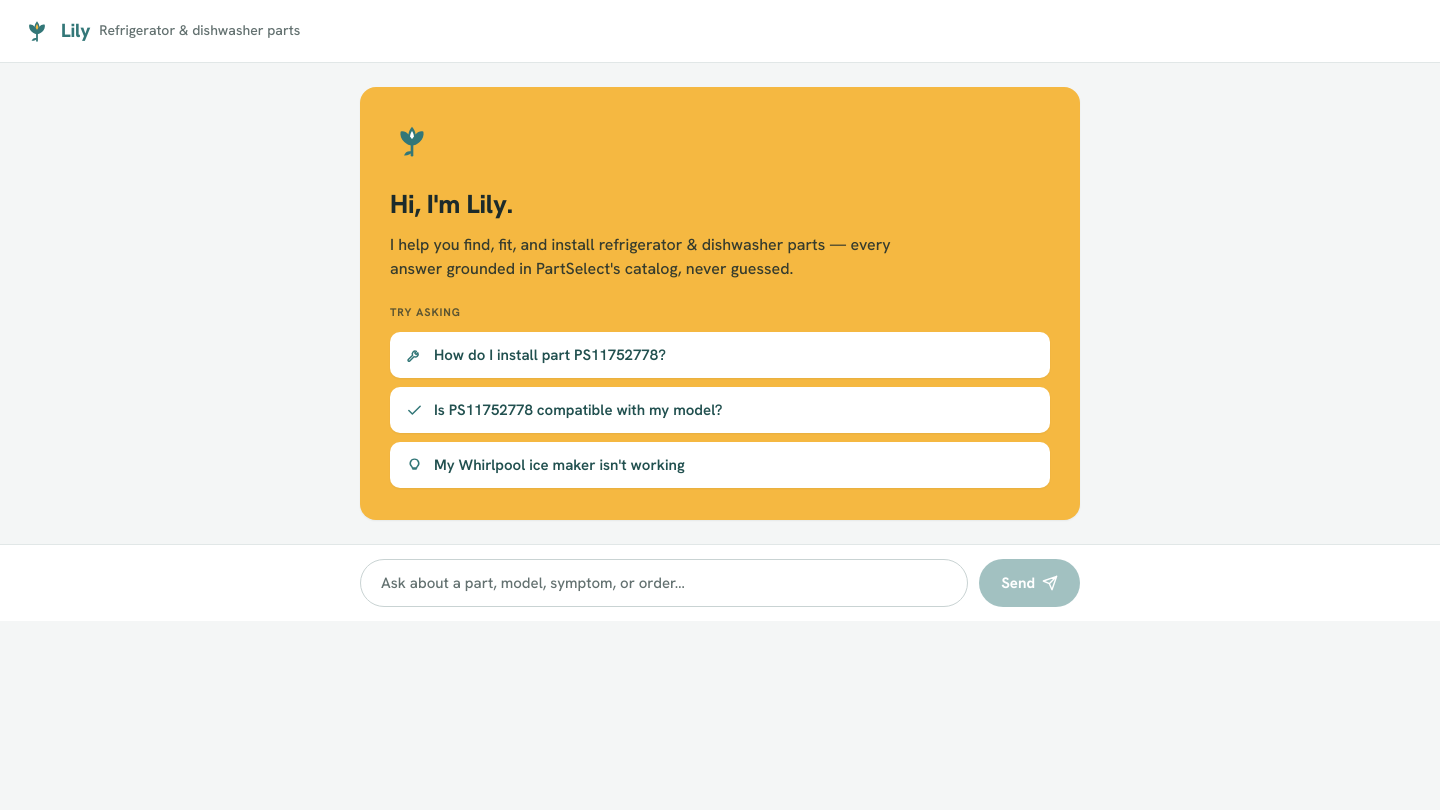
Test: Chat (mocked SSE) › renders the user turn, assistant text, product card, citation, model badge, and quick reply
In the field named "Message Lily": (664, 583) [360, 559, 968, 607], type "Is PS11752778 compatible with my WDT780SAEM1?"
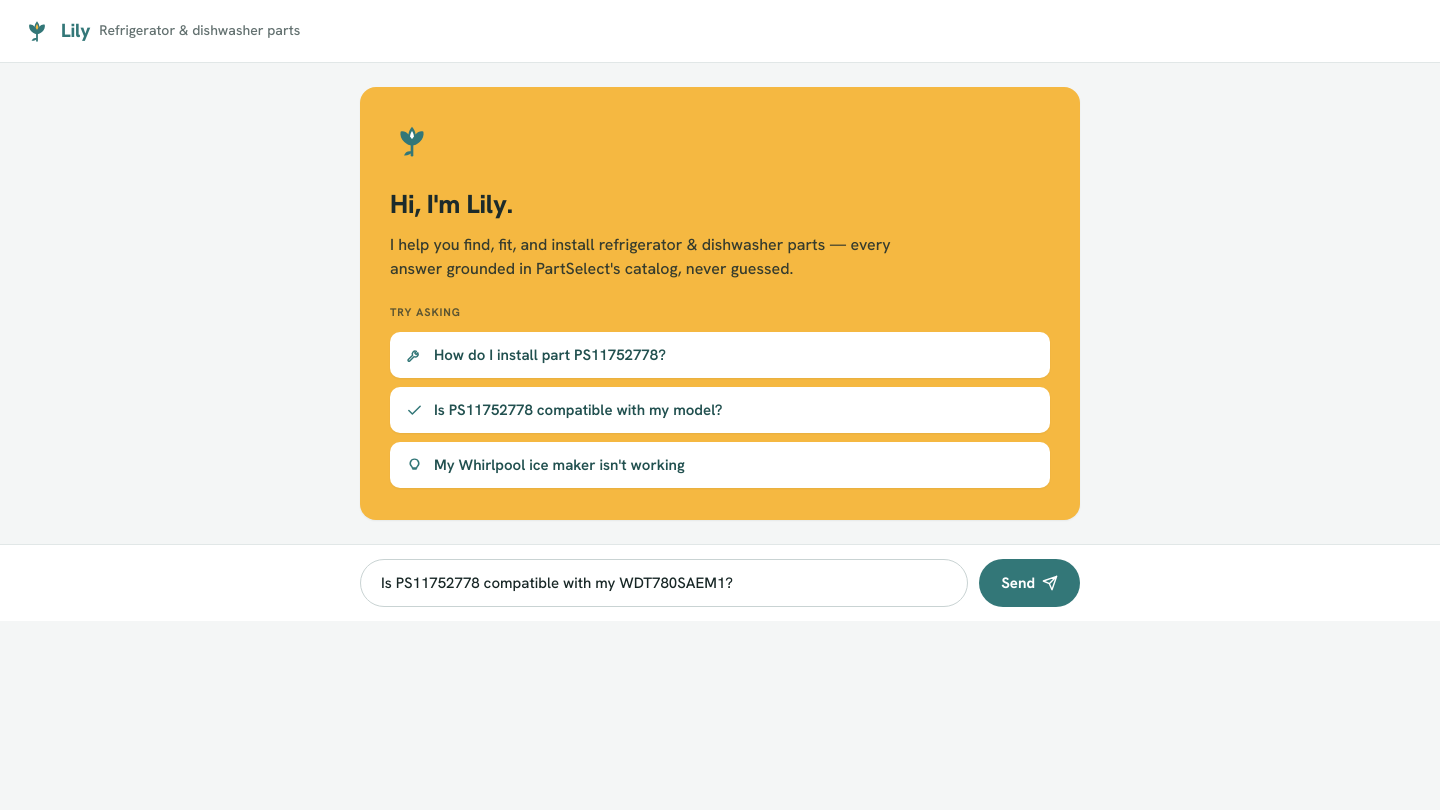
Click the button "Send": (1030, 583) [979, 559, 1080, 607]
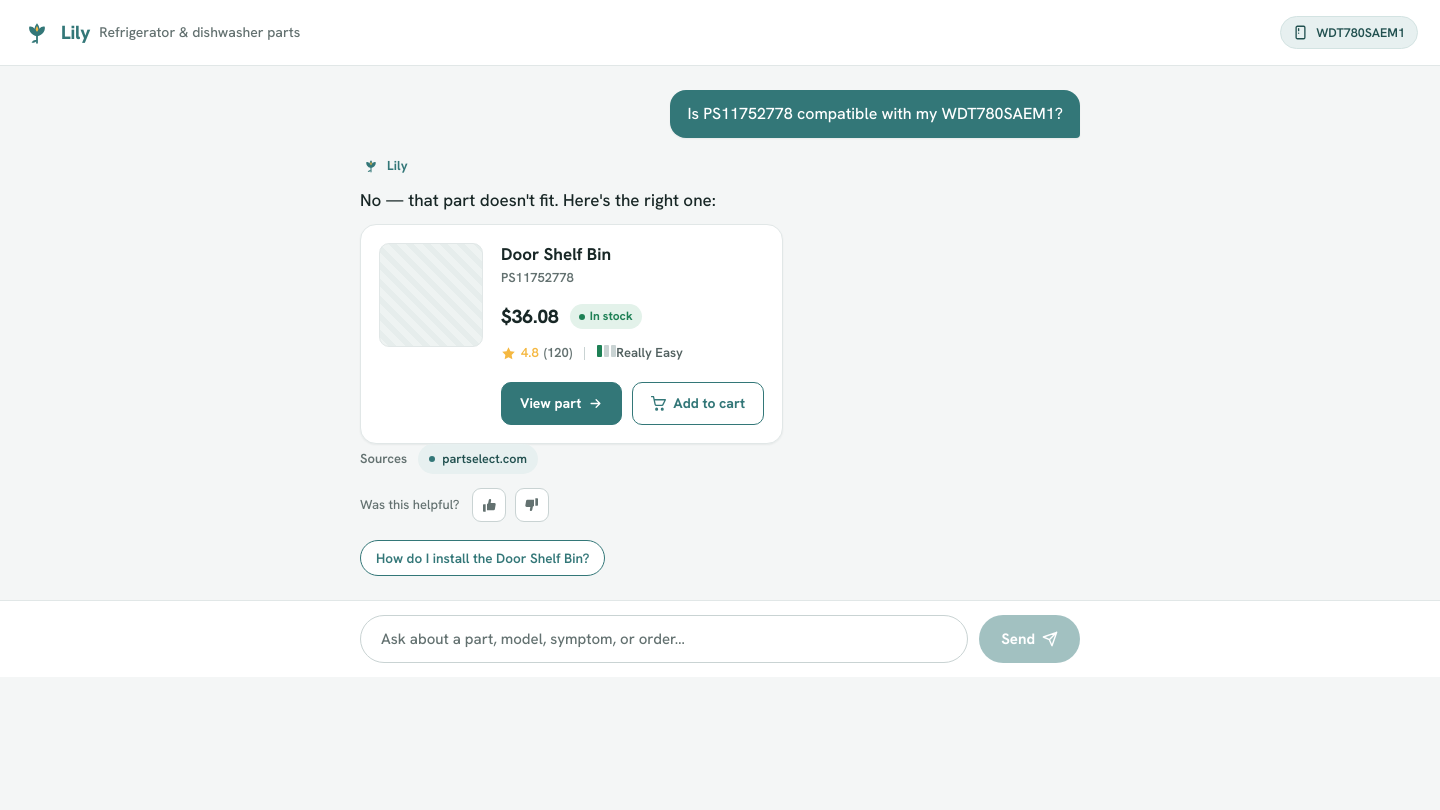
Check: the text with test id "user-bubble" shows "Is PS11752778 compatible", box [687, 103, 1063, 124]
Check: the text "No — that part doesn't fit. Here's the right one:" is shown, box [360, 188, 716, 210]
Check: the element with test id "product-card" is shown, box [360, 224, 783, 444]
